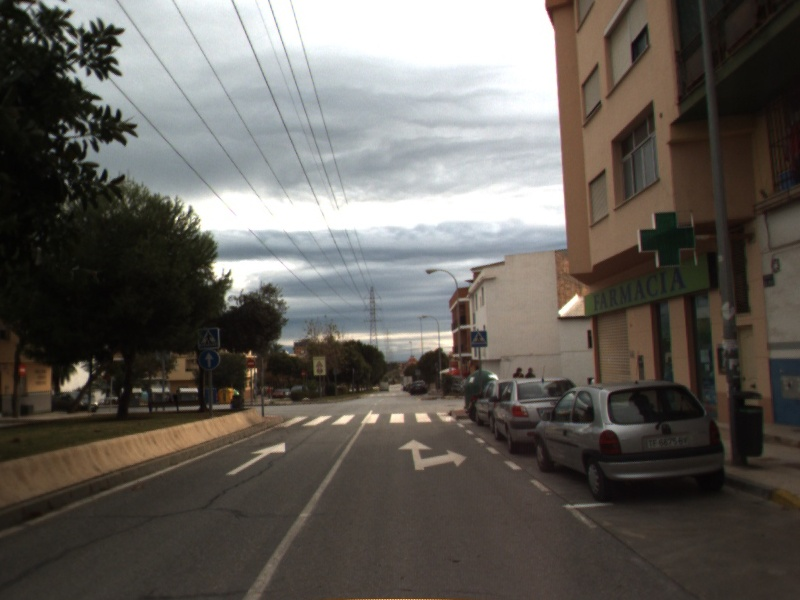STRAIGHT: (224, 440, 287, 477)
STRAIGHT_RIGHT: (396, 437, 469, 472)
